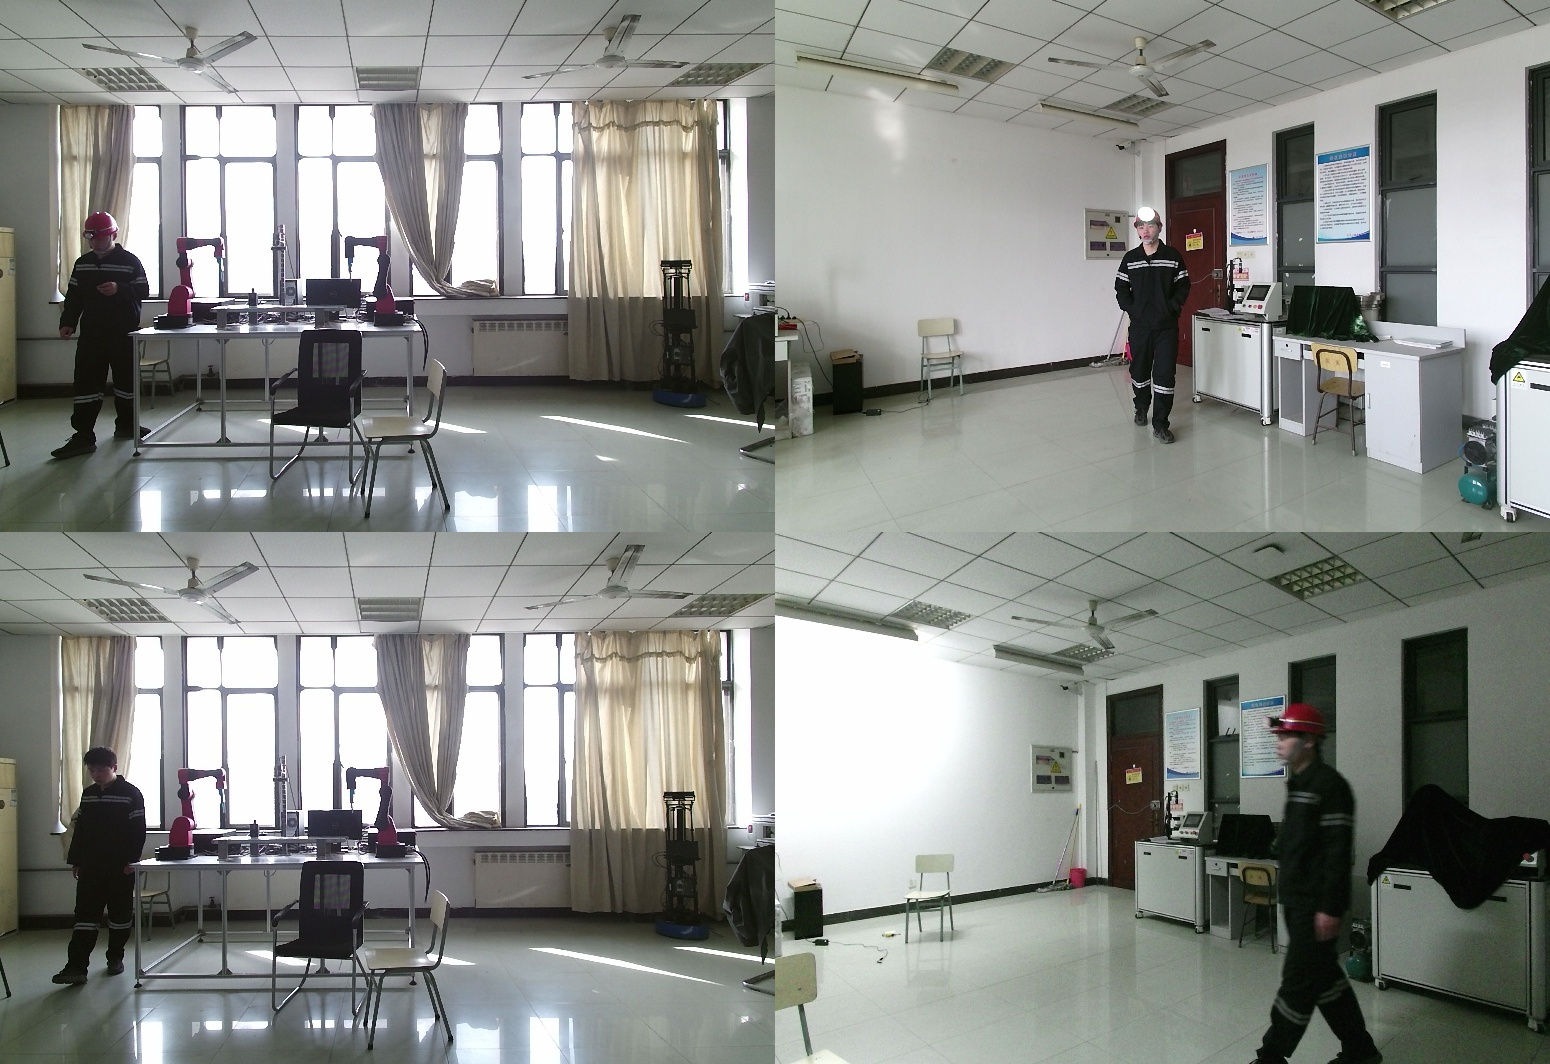person: (1262, 701, 1388, 1064), (58, 215, 151, 459), (50, 749, 146, 983), (1114, 213, 1197, 442)
